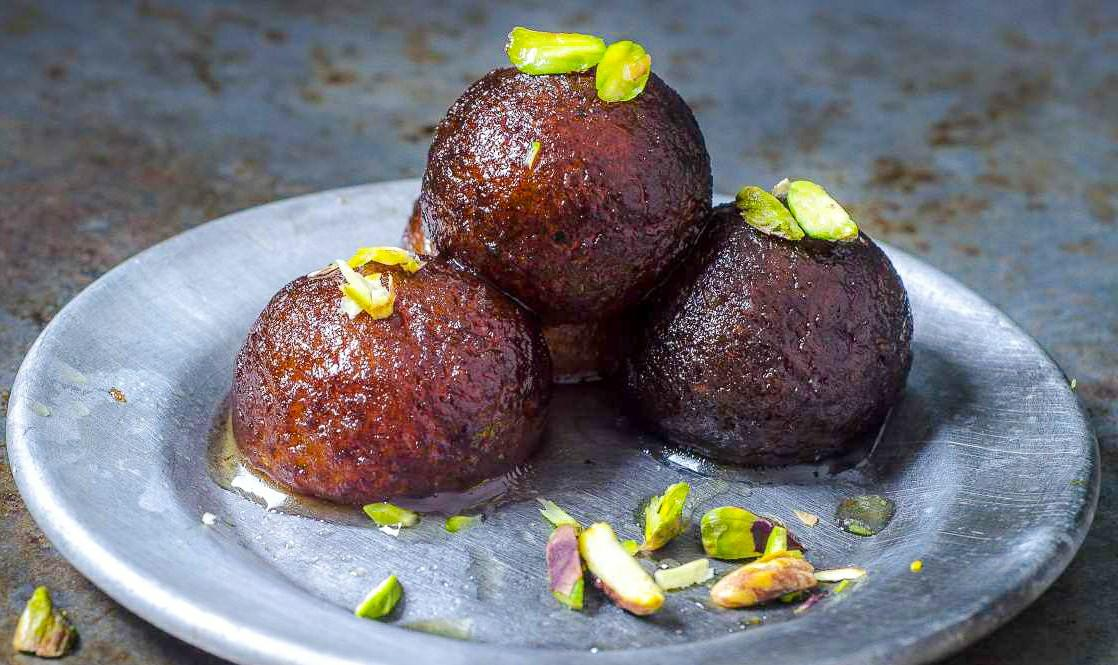GulabJamun: (404, 28, 713, 323), (612, 177, 911, 469), (229, 250, 550, 510)
